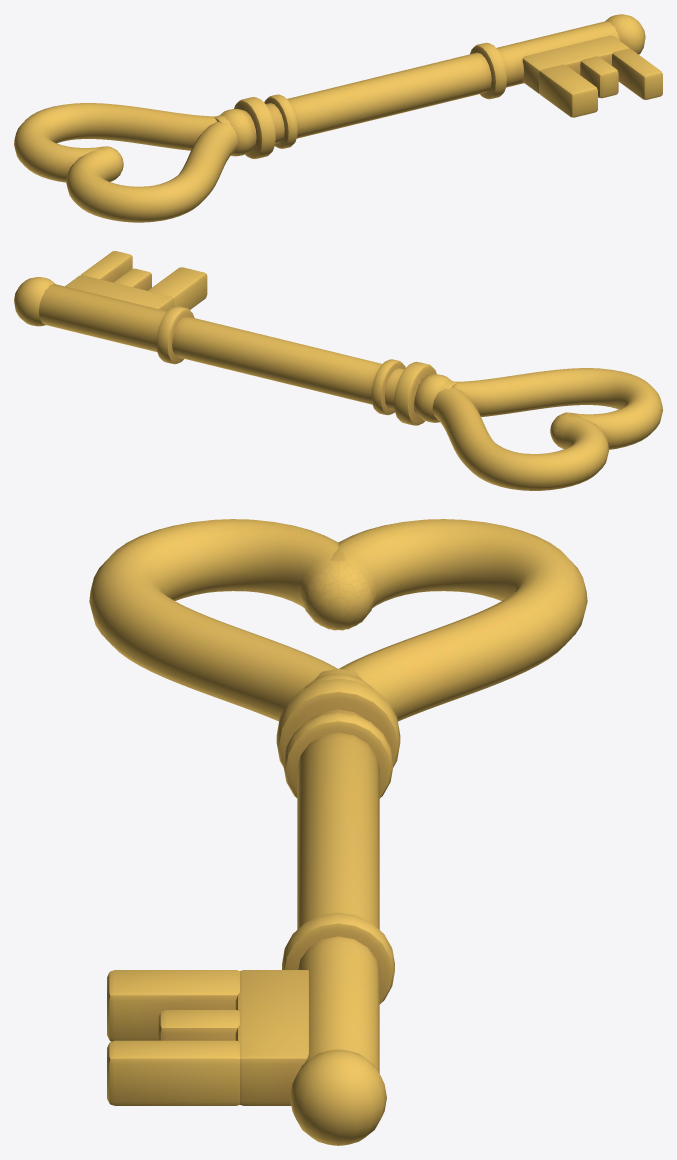
The model's file is key.glb.
3 views of the same model, one above another, from view 1: azimuth 30°, elevation 25°; view 2: azimuth 150°, elevation 25°; view 3: azimuth 270°, elevation 25° (orthographic). The views are drawn at different scales.
Parts seen in each view (by area): view 1: key_body; view 2: key_body; view 3: key_body.
Boxes of the visible parts, box(x1,y1,x2,y2) form: key_body: box(14, 14, 662, 222); key_body: box(14, 251, 662, 490); key_body: box(89, 519, 587, 1145).
Size of the model in its own units: 0.1598 by 0.0144 by 0.0581.
Materials: 1 (1 with a texture image).
